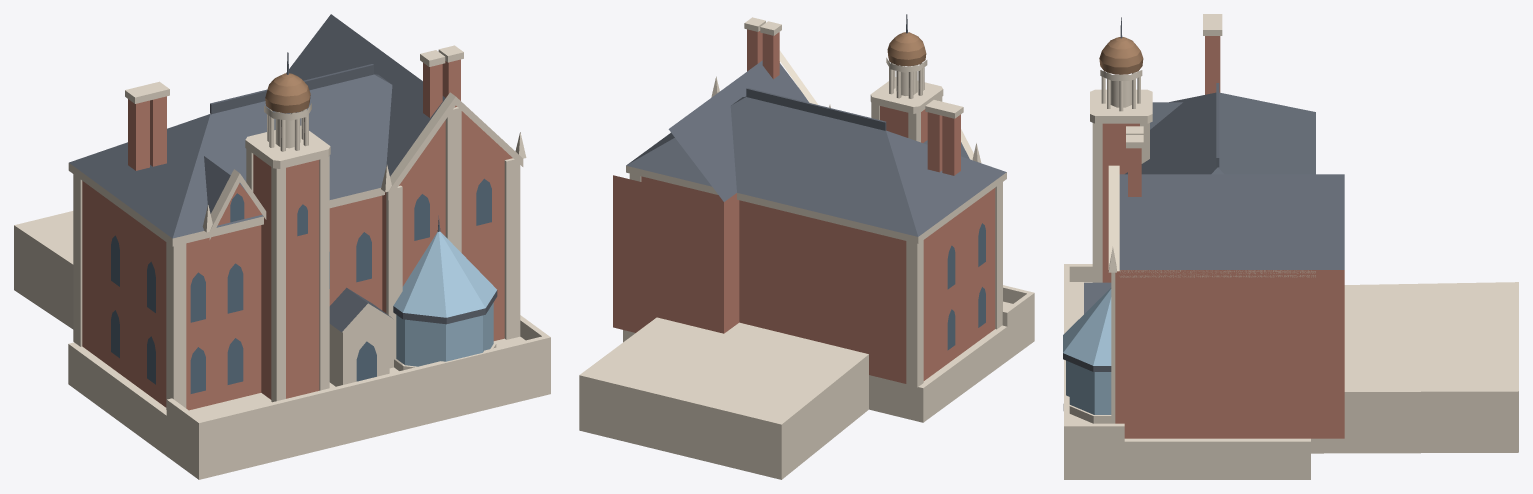
The model's file is wdw-haunted-mansion.glb.
The picture shows the model from 3 angles, left to right: view 1: azimuth 30°, elevation 25°; view 2: azimuth 150°, elevation 25°; view 3: azimuth 270°, elevation 25°; orthographic projection. The views are drawn at different scales.
Visible parts, largest first — view 1: The Haunted Mansion; view 2: The Haunted Mansion; view 3: The Haunted Mansion.
Boxes of the visible parts, x1=… form: The Haunted Mansion: x1=14, y1=14, x2=550, y2=479; The Haunted Mansion: x1=579, y1=14, x2=1034, y2=479; The Haunted Mansion: x1=1063, y1=14, x2=1518, y2=479.
Size of the model in its own units: 22.7 by 23.2 by 26.95.
